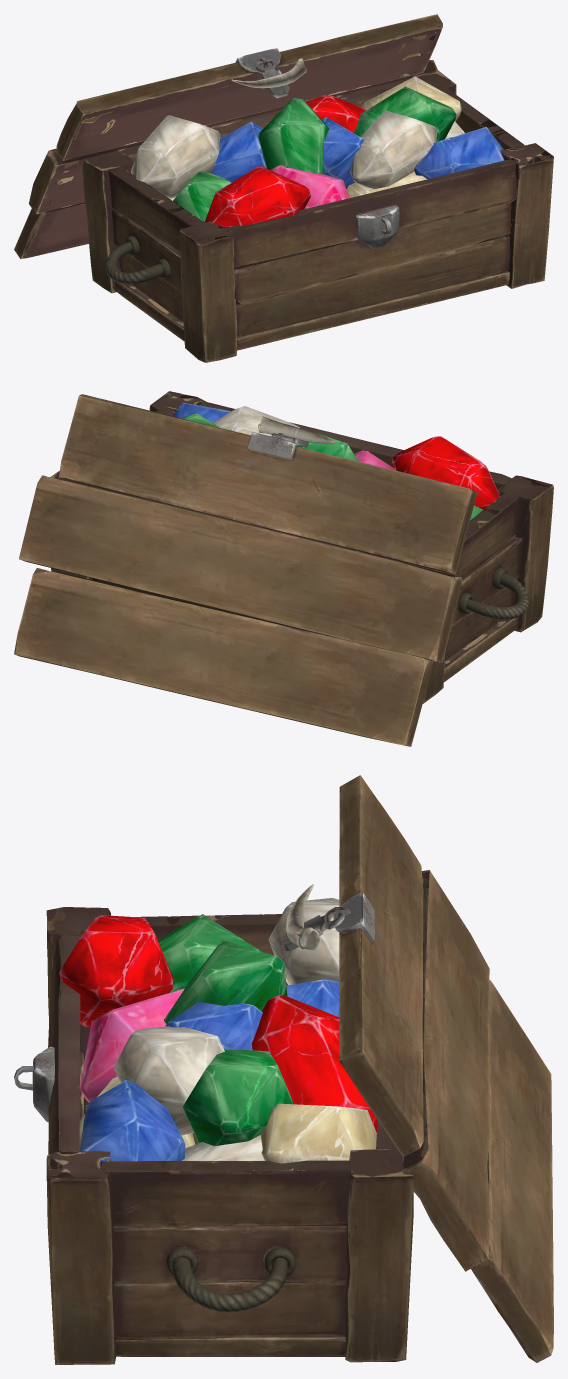
3 renders of one model, top to bottom at view 1: azimuth 30°, elevation 25°; view 2: azimuth 150°, elevation 25°; view 3: azimuth 270°, elevation 25°, orthographic. The views are drawn at different scales.
Visible parts, largest first — view 1: SM_Dec_Garou_Chest_Gemstone_LOD0; view 2: SM_Dec_Garou_Chest_Gemstone_LOD0; view 3: SM_Dec_Garou_Chest_Gemstone_LOD0.
Boxes of the visible parts, <box> form: SM_Dec_Garou_Chest_Gemstone_LOD0: <box>14,14,553,362</box>; SM_Dec_Garou_Chest_Gemstone_LOD0: <box>14,391,553,746</box>; SM_Dec_Garou_Chest_Gemstone_LOD0: <box>14,775,553,1364</box>.
Size of the model in its own units: 1.46 by 0.6916 by 1.05.
7 materials, 7 textured.
